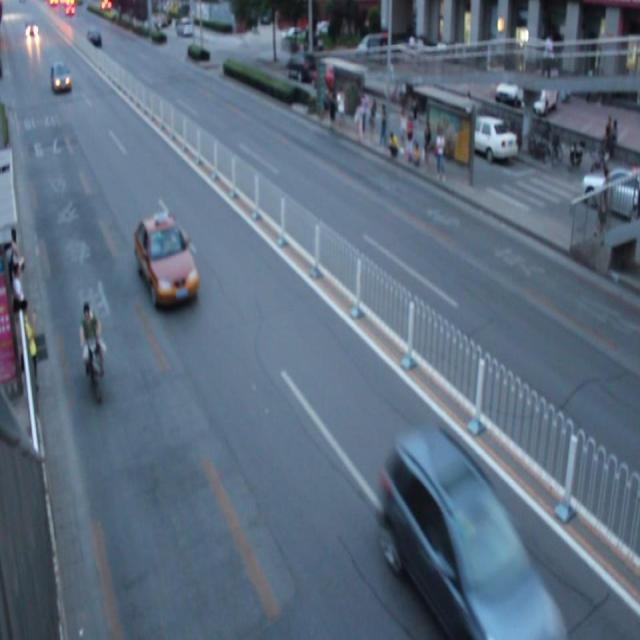car: (380, 434, 561, 640), (132, 214, 198, 310)
